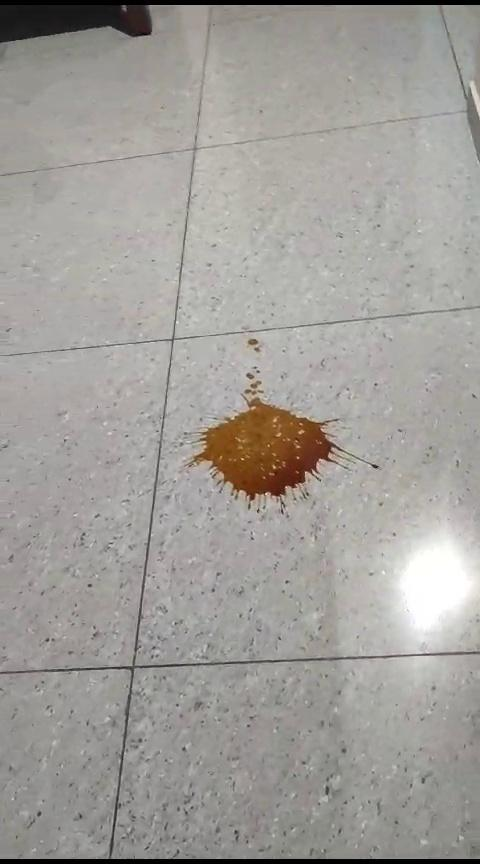dirty_floor: (188, 337, 380, 511)
